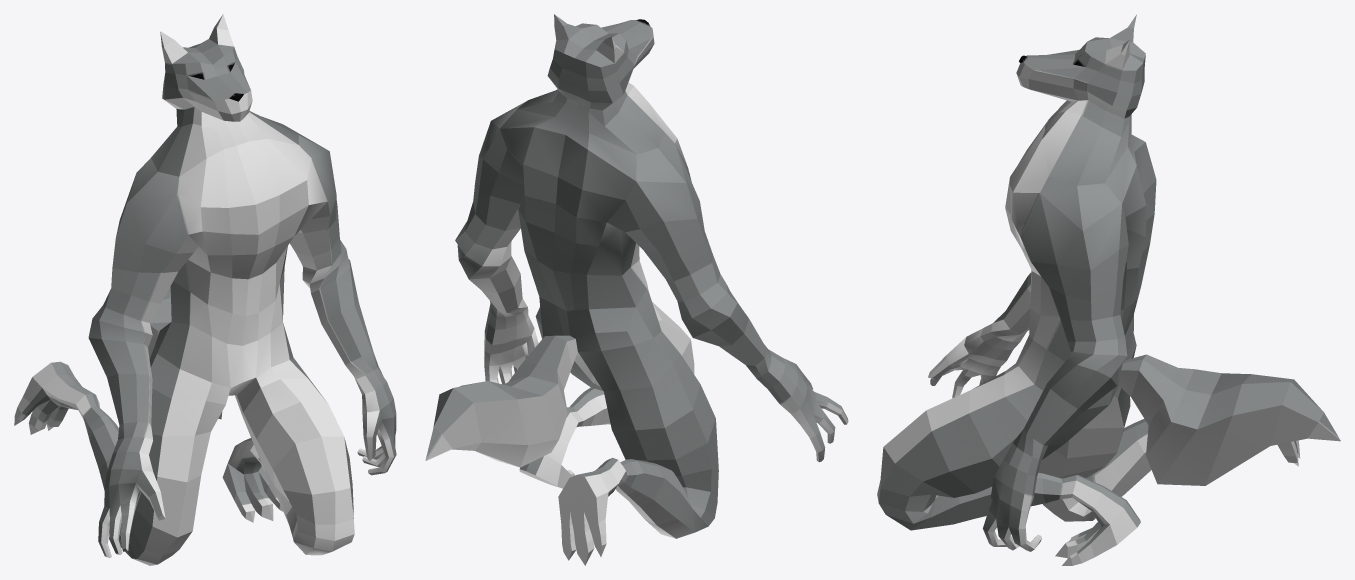
File: WolfDead(30).obj
3 renders of one model, left to right at view 1: azimuth 30°, elevation 25°; view 2: azimuth 150°, elevation 25°; view 3: azimuth 270°, elevation 25°, orthographic. The views are drawn at different scales.
Parts seen in each view (by area): view 1: Box001; view 2: Box001; view 3: Box001.
Boxes of the visible parts, x1=… form: Box001: x1=14, y1=14, x2=396, y2=565; Box001: x1=425, y1=14, x2=848, y2=565; Box001: x1=877, y1=14, x2=1340, y2=565.
Bounding box in the file's own units: 77.48 × 119 × 94.1.
